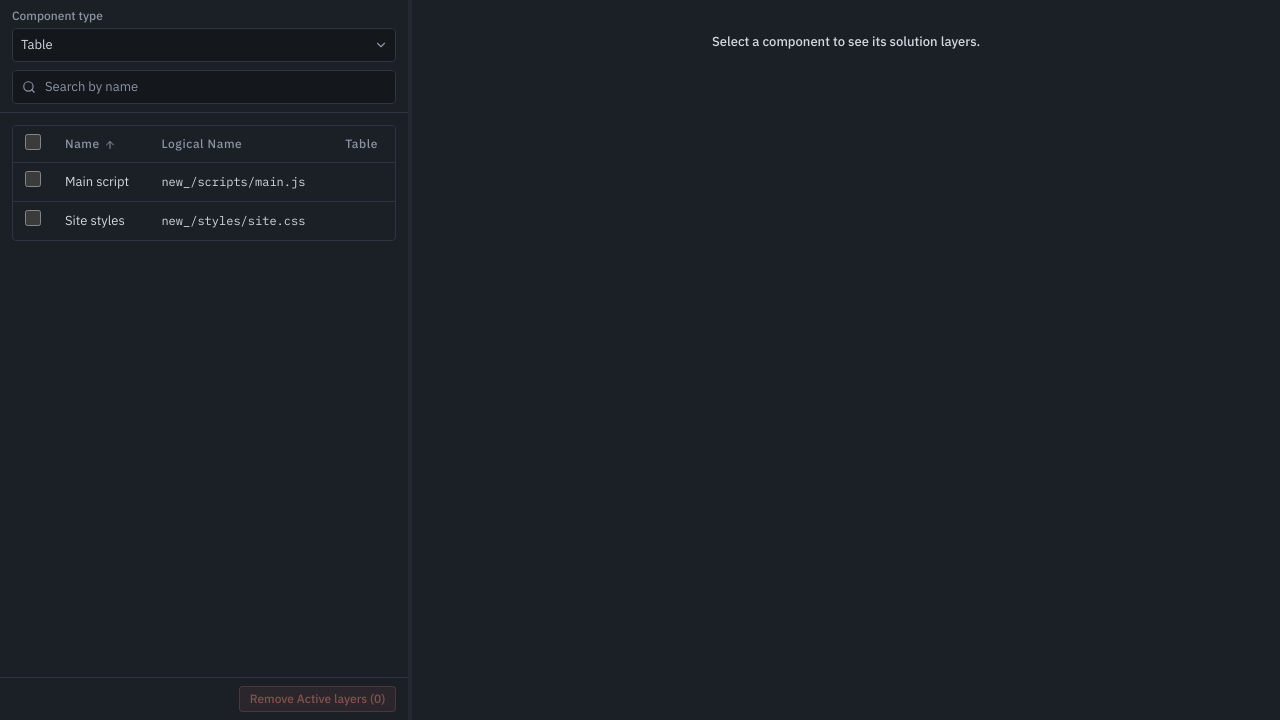
Solution Layers Explorer › disables removal for a component that exists only in the Active layer
Click the text "Site styles": {"x": 101, "y": 221} [53,202,149,240]
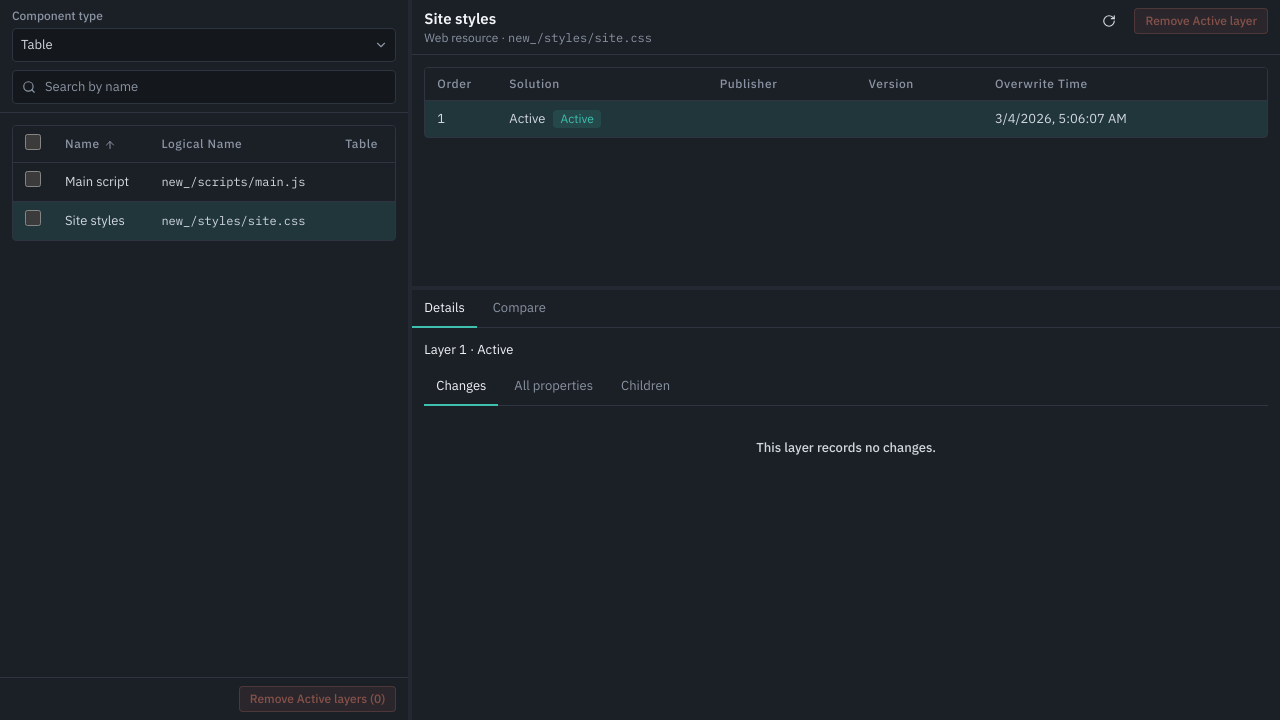
Expected: the text "Layer 1 · Active" is shown, [424,341,513,358]
Expected: the button "Remove Active layer" is disabled, [1134,8,1268,34]
Press the mouse on the tab "Compare": {"x": 519, "y": 309} [481,290,558,328]
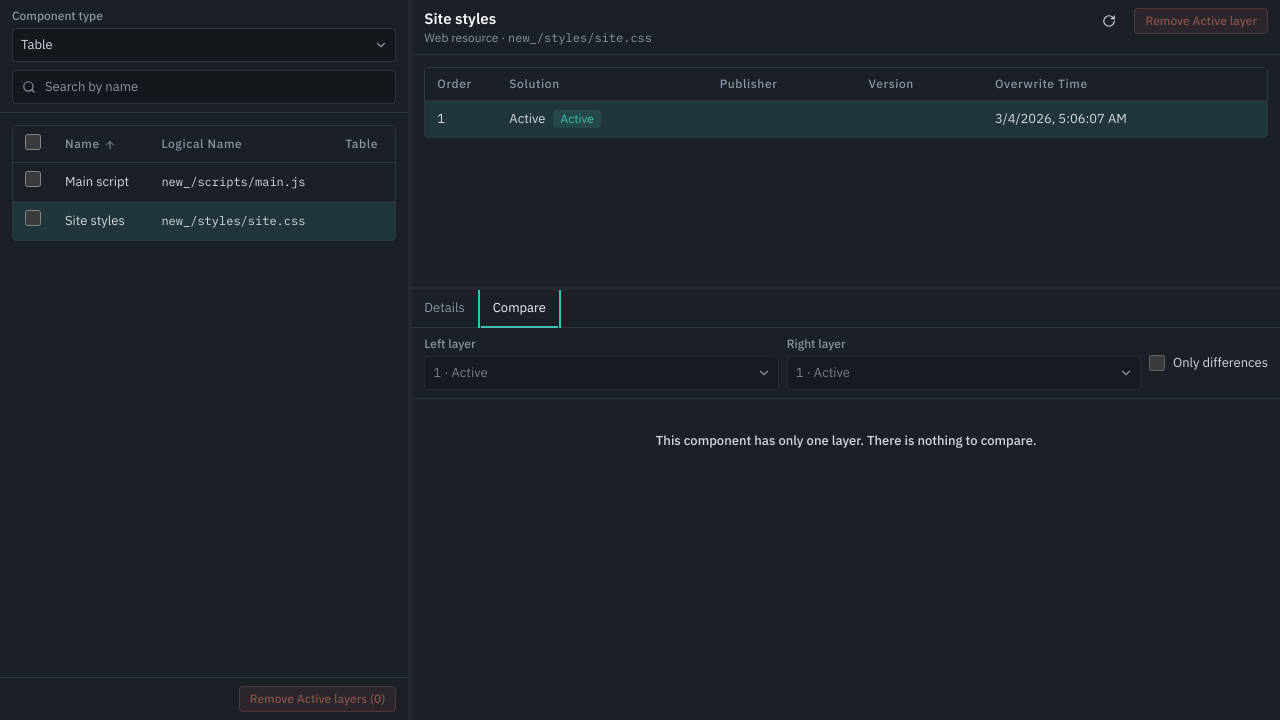
Expected: the text "This component has only one layer. There is nothing to compare." is shown, [656,431,1036,451]
